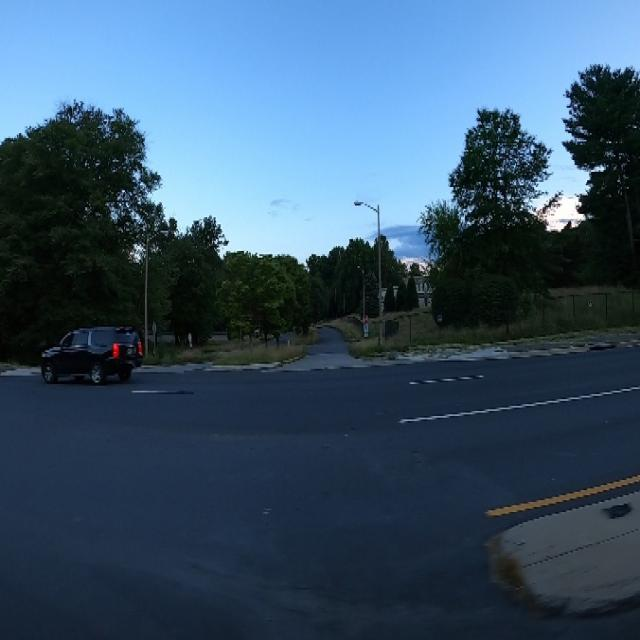car: (37, 319, 146, 388)
